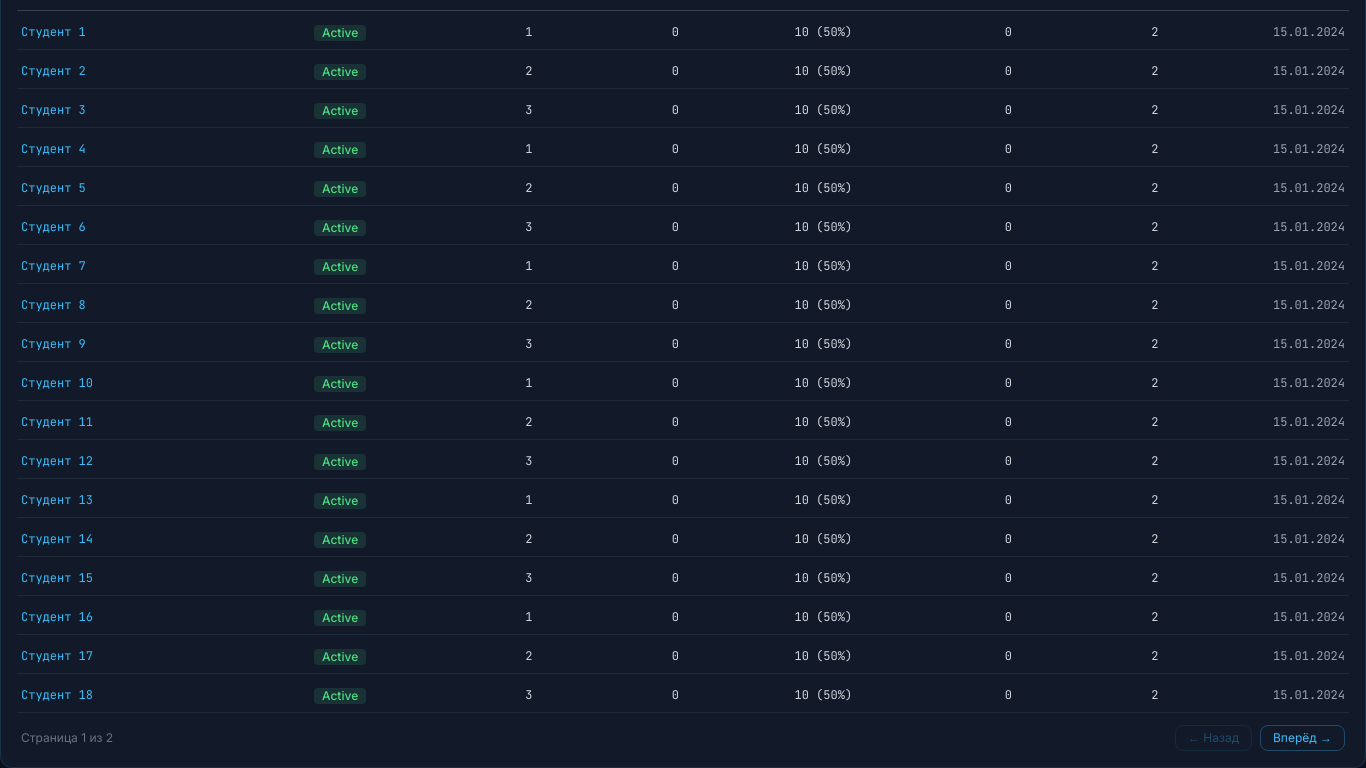
Test: Students › resets to page 1 when sorting from a later page
(page scrolled)
expect the text "Страница 1 из 2" is shown: met, box x1=21 y1=730 x2=113 y2=746
Click the button "Вперёд →" at point(1302, 738), box x1=1260 y1=725 x2=1345 y2=751
(page scrolled)
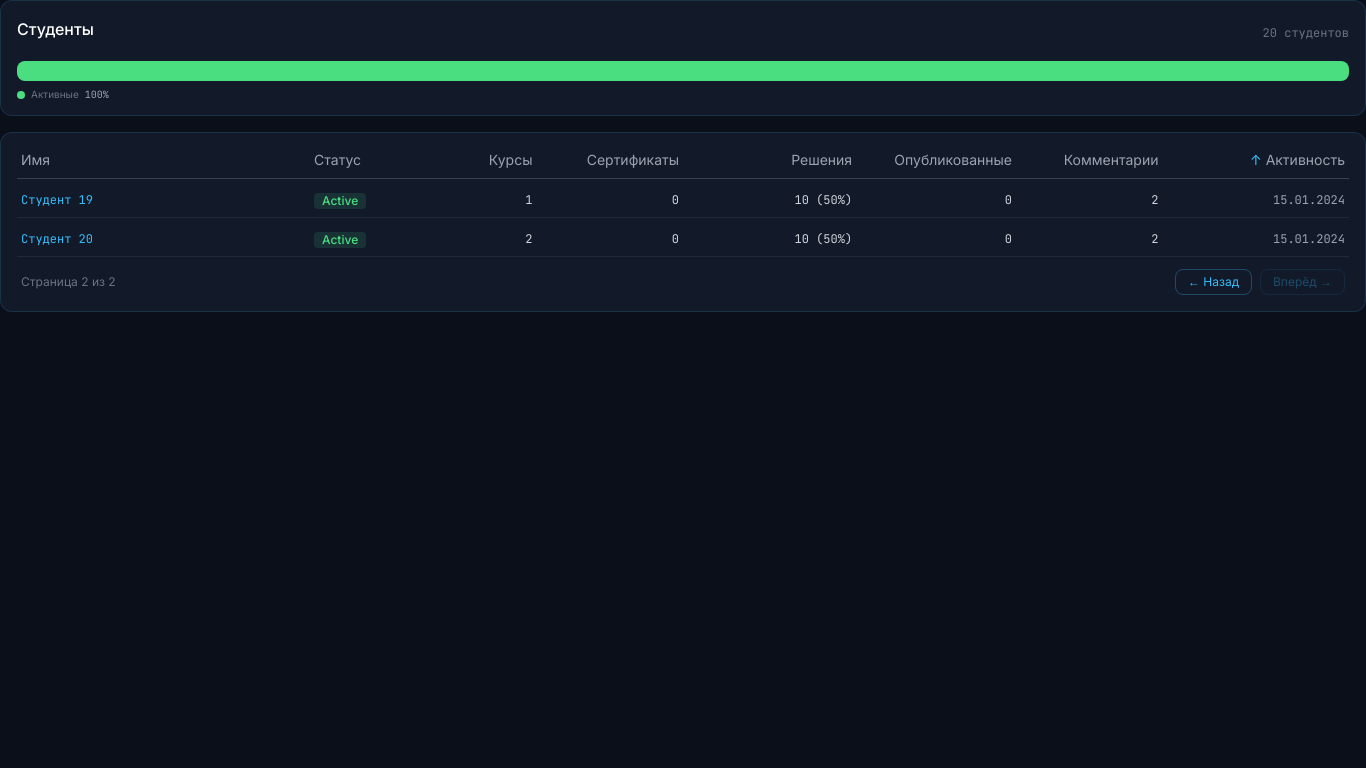
expect the text "Страница 2 из 2" is shown: met, box x1=21 y1=274 x2=116 y2=290
Click the column heading "Курсы" at point(511, 160), box x1=430 y1=149 x2=536 y2=178
(page scrolled)
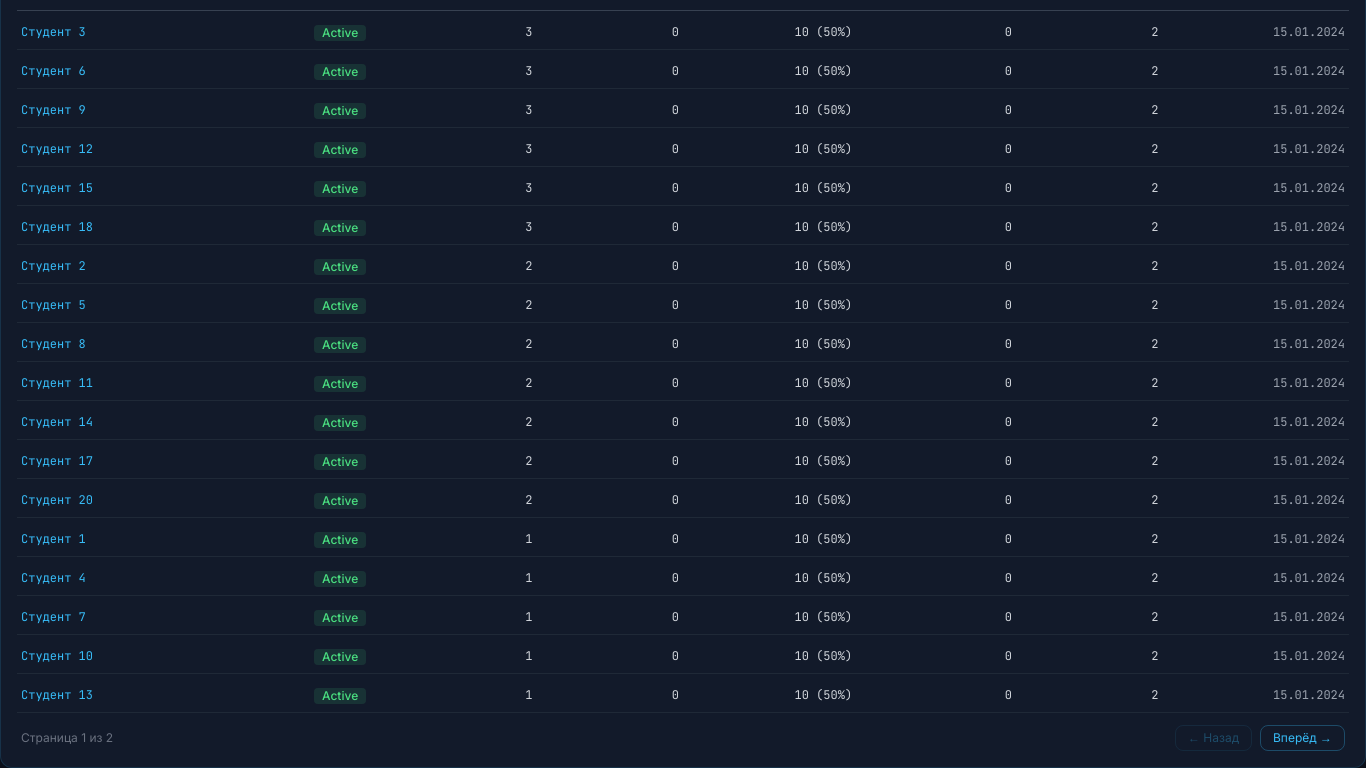
expect the text "Страница 1 из 2" is shown: met, box x1=21 y1=730 x2=113 y2=746
